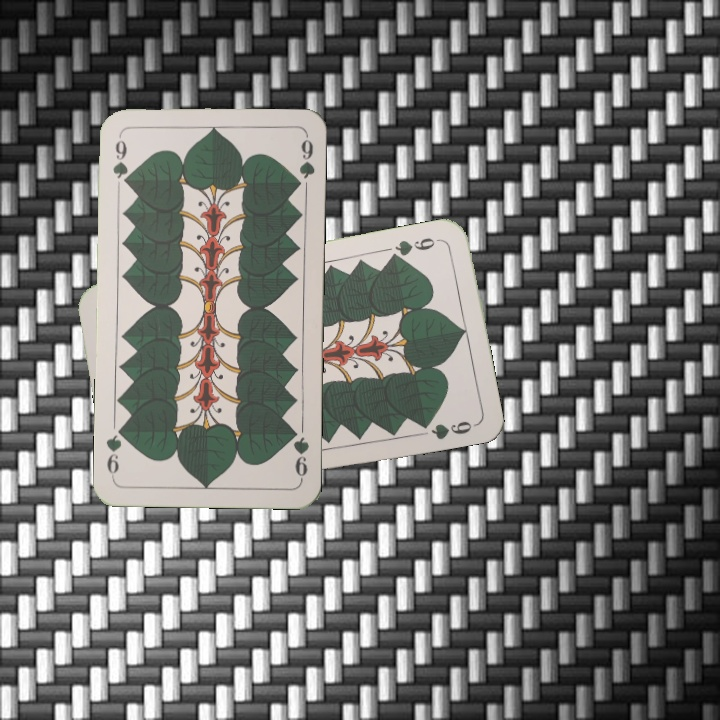G9: (387, 233, 444, 261), (286, 424, 311, 483), (109, 131, 132, 189)
